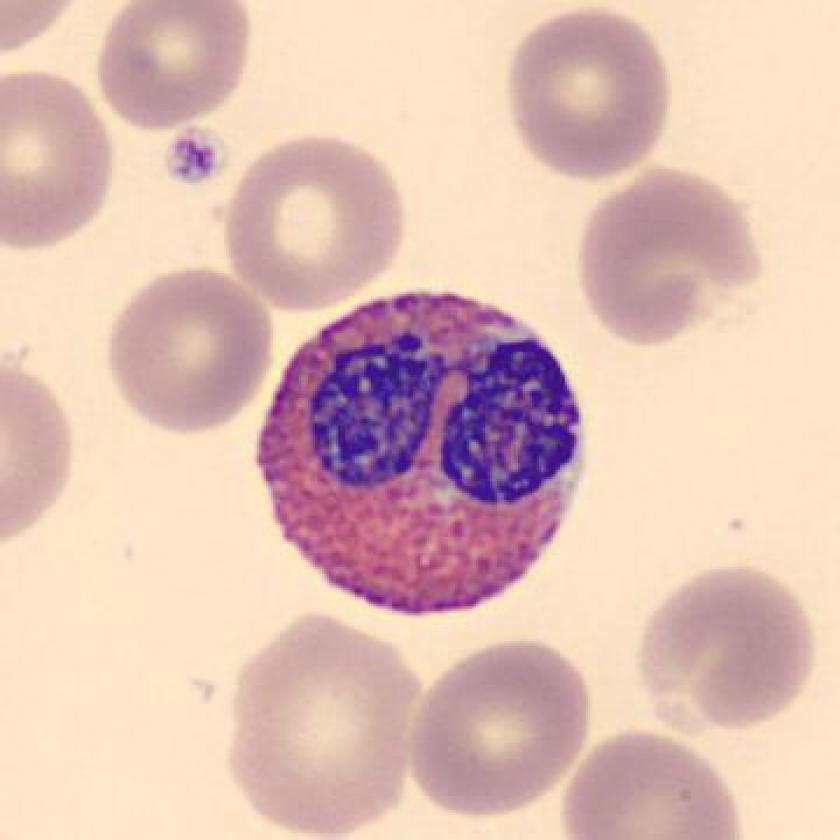eosinophil: (242, 272, 599, 626)
